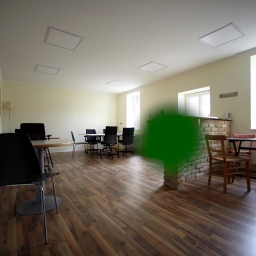focus: (134, 101, 203, 174)
